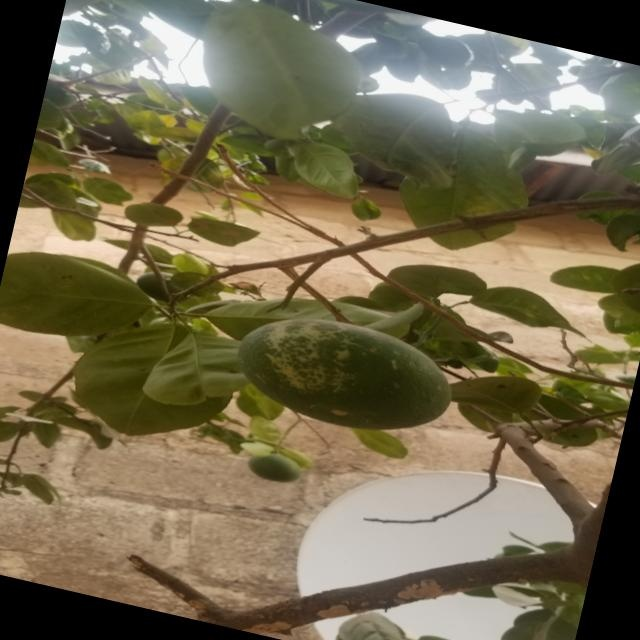agrume: (194, 285, 488, 479)
